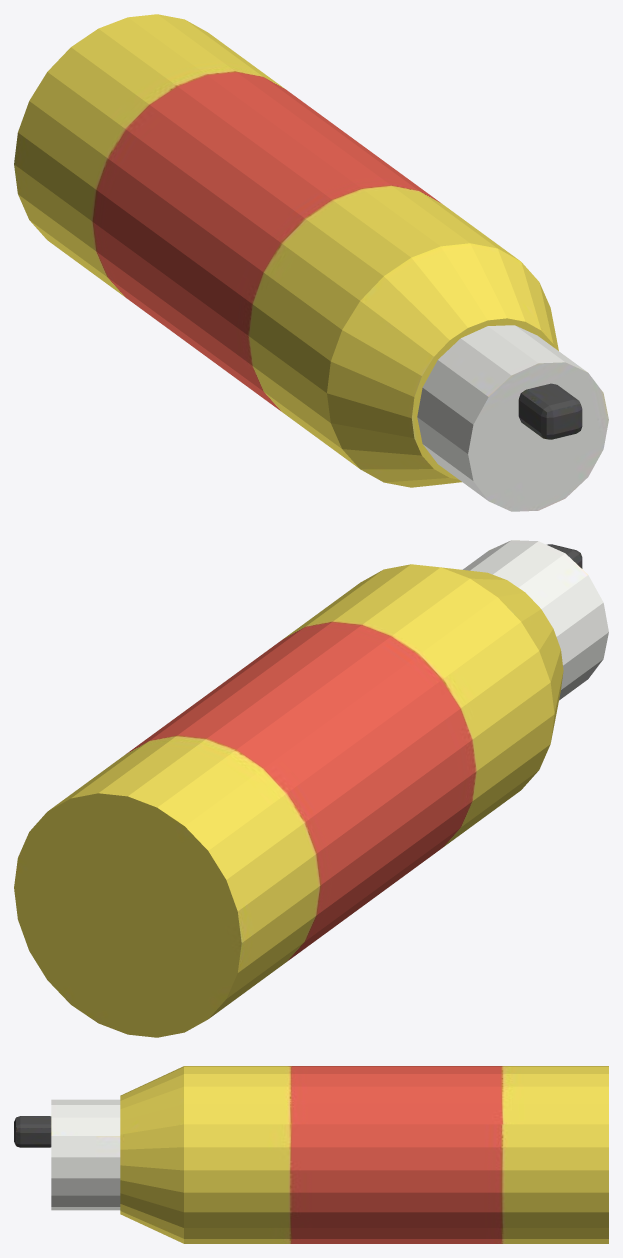
File: spray_can.glb
3 views of the same model, one above another, from view 1: azimuth 30°, elevation 25°; view 2: azimuth 150°, elevation 25°; view 3: azimuth 270°, elevation 25° (orthographic). The views are drawn at different scales.
Visible parts, largest first — view 1: SprayCan; view 2: SprayCan; view 3: SprayCan.
Boxes of the visible parts, left/top/right/bottom form: SprayCan: left=14, top=14, right=608, bottom=511; SprayCan: left=14, top=540, right=608, bottom=1037; SprayCan: left=14, top=1066, right=608, bottom=1243.
Bounding box in the file's own units: 0.084 × 0.084 × 0.28.
Materials: 1 (1 with a texture image).
